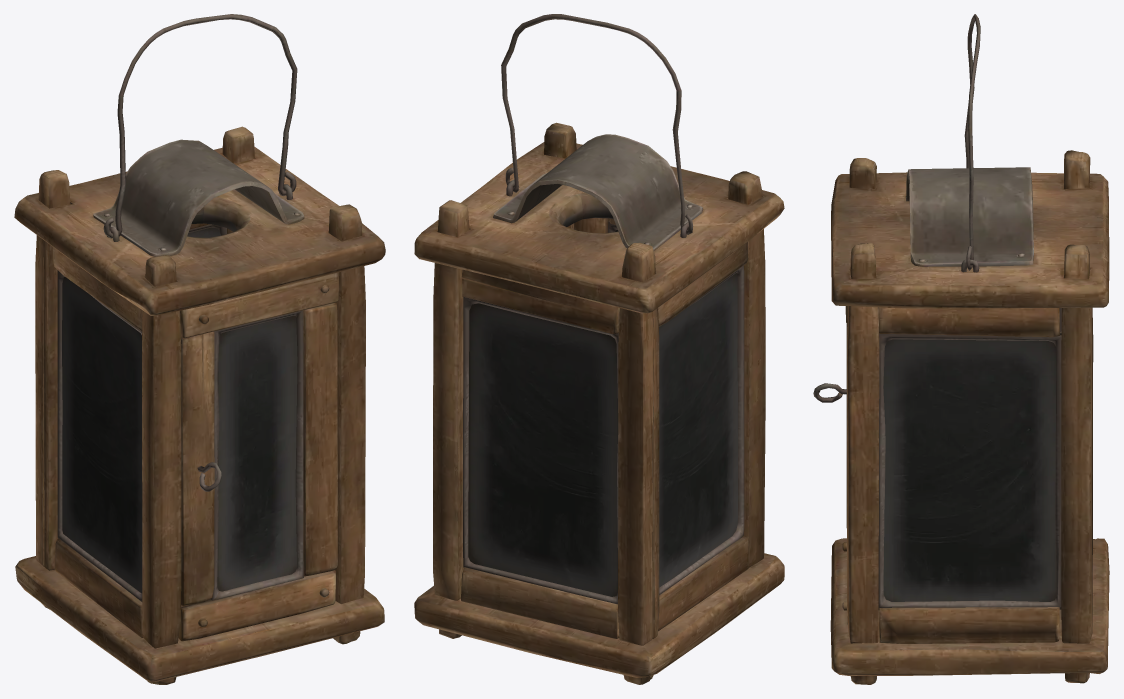
Rendered from wooden_lantern_01.light.glb.
The picture shows the model from 3 angles, left to right: view 1: azimuth 30°, elevation 25°; view 2: azimuth 150°, elevation 25°; view 3: azimuth 270°, elevation 25°; orthographic projection.
Visible parts, largest first — view 1: wooden_lantern_01, wooden_lantern_01_door, wooden_lantern_01_handle; view 2: wooden_lantern_01, wooden_lantern_01_handle, wooden_lantern_01_door; view 3: wooden_lantern_01, wooden_lantern_01_handle, wooden_lantern_01_door.
Part boxes in pixels (<box>): wooden_lantern_01: <box>14,126,385,684</box>; wooden_lantern_01_door: <box>178,272,339,641</box>; wooden_lantern_01_handle: <box>103,14,297,238</box>; wooden_lantern_01: <box>414,122,784,684</box>; wooden_lantern_01_handle: <box>501,14,693,234</box>; wooden_lantern_01_door: <box>574,218,618,233</box>; wooden_lantern_01: <box>830,150,1109,684</box>; wooden_lantern_01_handle: <box>964,14,980,270</box>; wooden_lantern_01_door: <box>813,306,848,624</box>.
Size of the model in its own units: 1.88 by 4.52 by 2.
2 materials, 2 textured.
